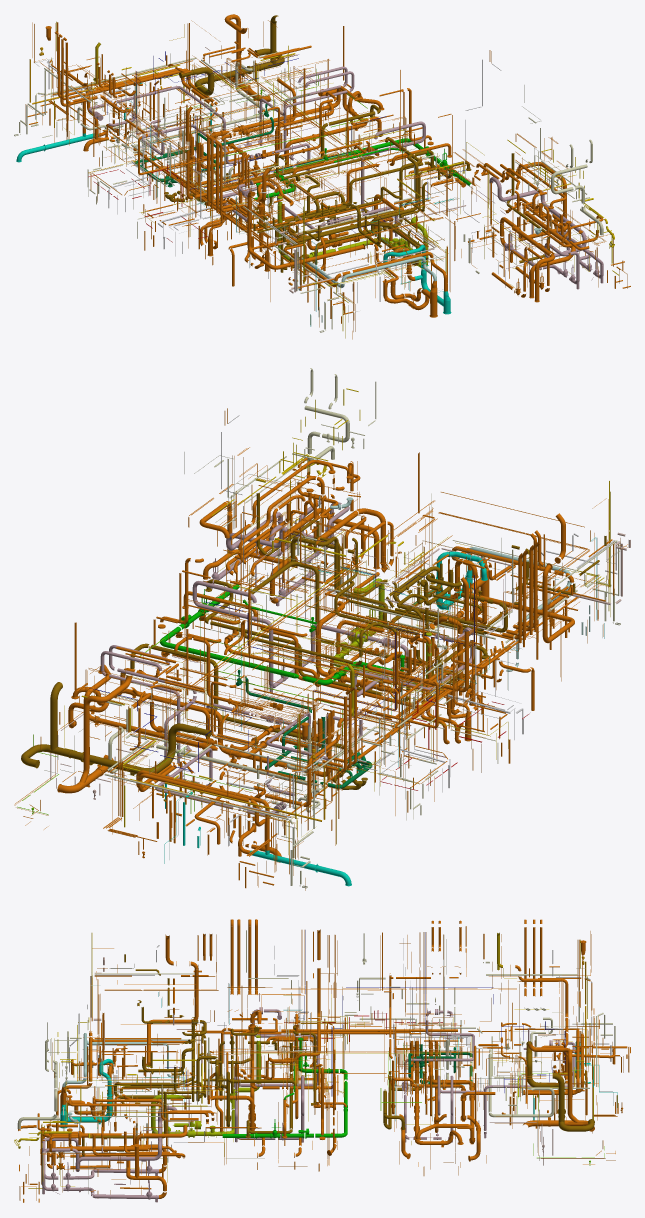
3 views of the same model, one above another, from view 1: azimuth 30°, elevation 25°; view 2: azimuth 150°, elevation 25°; view 3: azimuth 270°, elevation 25° (orthographic). The views are drawn at different scales.
Size of the model in its own units: 57.54 by 29.55 by 94.27.
